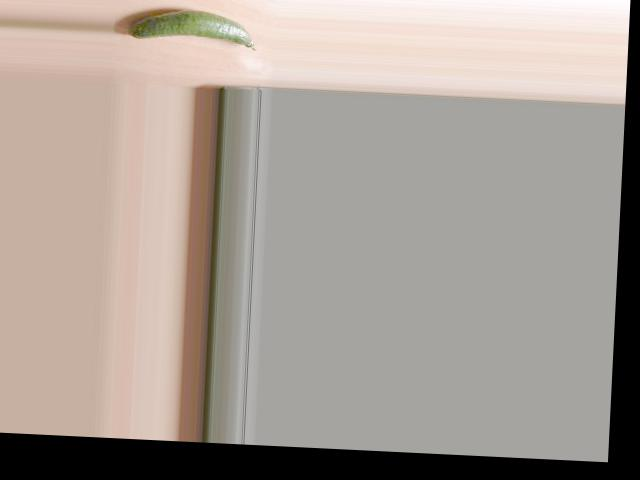cucumber: (126, 5, 258, 50)
